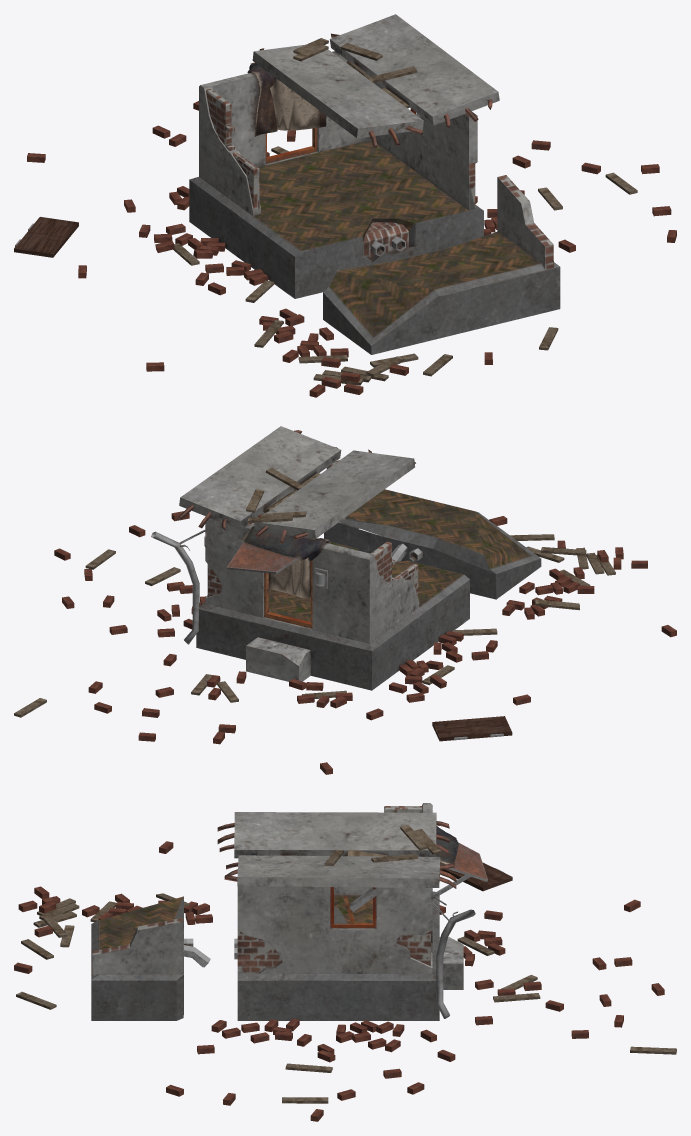
File: ruin_ruined_building.glb
The picture shows the model from 3 angles, top to bottom: view 1: azimuth 30°, elevation 25°; view 2: azimuth 150°, elevation 25°; view 3: azimuth 270°, elevation 25°; orthographic projection. The views are drawn at different scales.
Parts seen in each view (by area): view 1: RuinedBuilding_01; view 2: RuinedBuilding_01; view 3: RuinedBuilding_01.
Boxes of the visible parts, x1,y1,x2,y2 form: RuinedBuilding_01: (14,14,676,397); RuinedBuilding_01: (14,426,676,774); RuinedBuilding_01: (14,803,676,1121).
Bounding box in the file's own units: 2.59 × 0.6615 × 2.63.
1 material, 1 textured.
